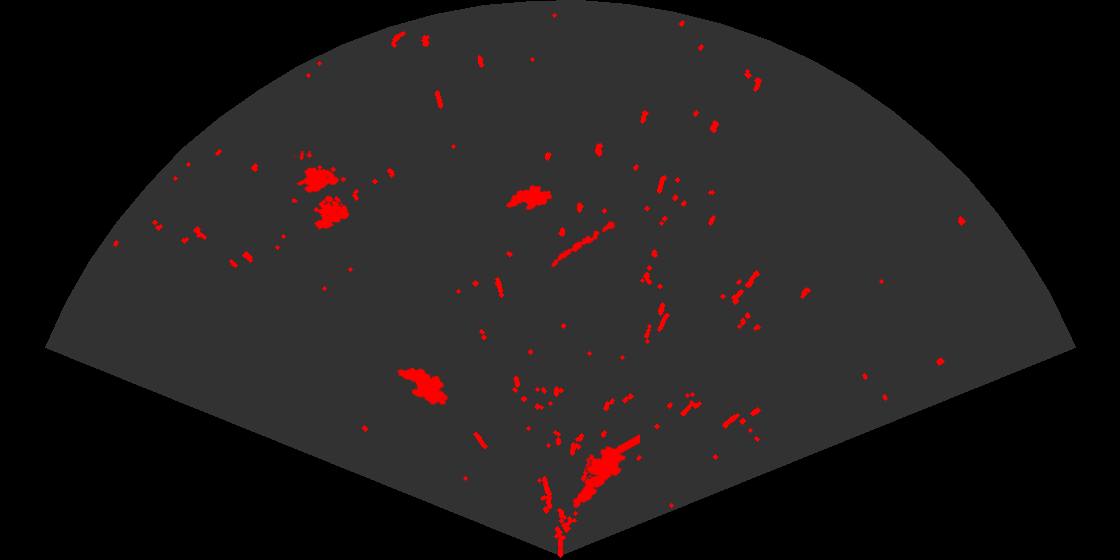AUV: (395, 366, 450, 407), (505, 183, 554, 212)
cage: (292, 151, 351, 231)
chain: (550, 217, 619, 269)
frogman: (571, 433, 640, 510)
